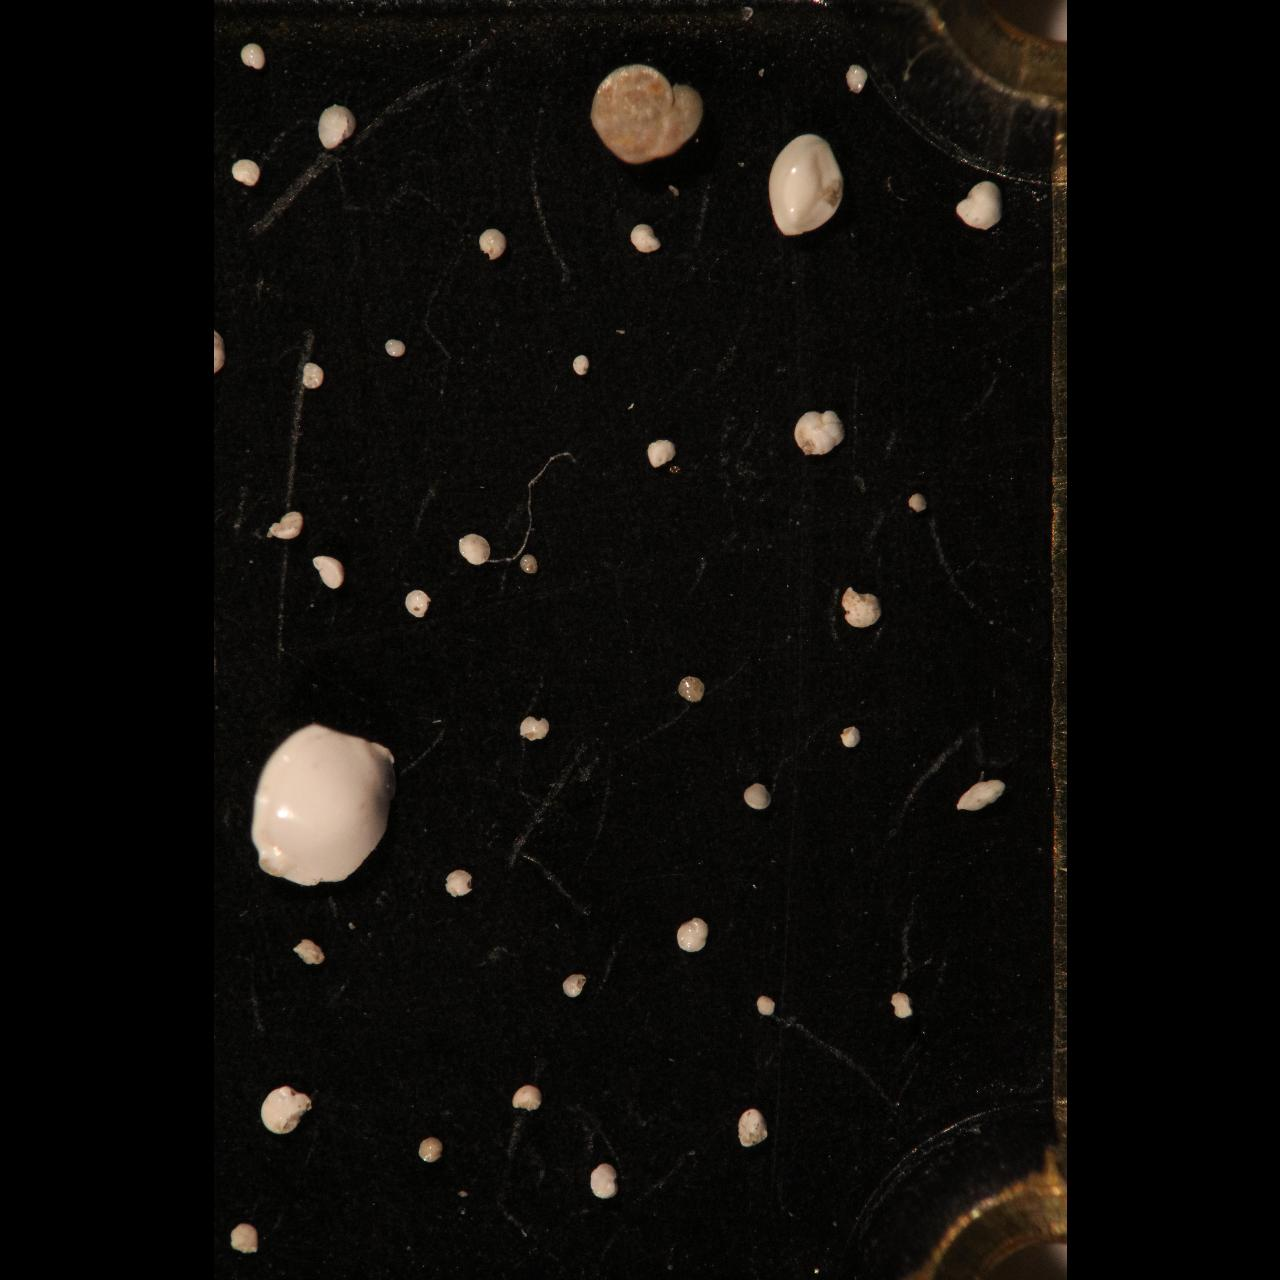calcareous: (250, 721, 395, 887), (590, 61, 704, 164), (765, 132, 844, 239), (791, 407, 846, 459), (953, 177, 1001, 231), (259, 1085, 311, 1135), (955, 776, 1005, 816), (318, 102, 354, 150), (840, 586, 880, 629), (735, 1108, 767, 1149), (313, 553, 346, 592), (674, 918, 708, 954), (457, 532, 490, 568), (267, 510, 305, 542), (627, 219, 660, 254), (590, 1162, 619, 1200), (476, 225, 506, 261), (227, 1221, 257, 1257), (291, 937, 324, 967), (647, 436, 675, 470), (843, 62, 870, 97), (403, 587, 431, 620), (445, 867, 474, 900), (231, 158, 261, 188), (675, 674, 704, 704), (510, 1083, 542, 1111), (518, 714, 549, 742), (238, 42, 266, 72), (743, 783, 772, 811), (888, 990, 913, 1022), (416, 1135, 442, 1163), (300, 361, 324, 392), (561, 971, 586, 999), (570, 352, 591, 379), (837, 726, 860, 749), (383, 336, 406, 360), (906, 492, 926, 515), (756, 994, 775, 1017), (519, 554, 538, 576)
